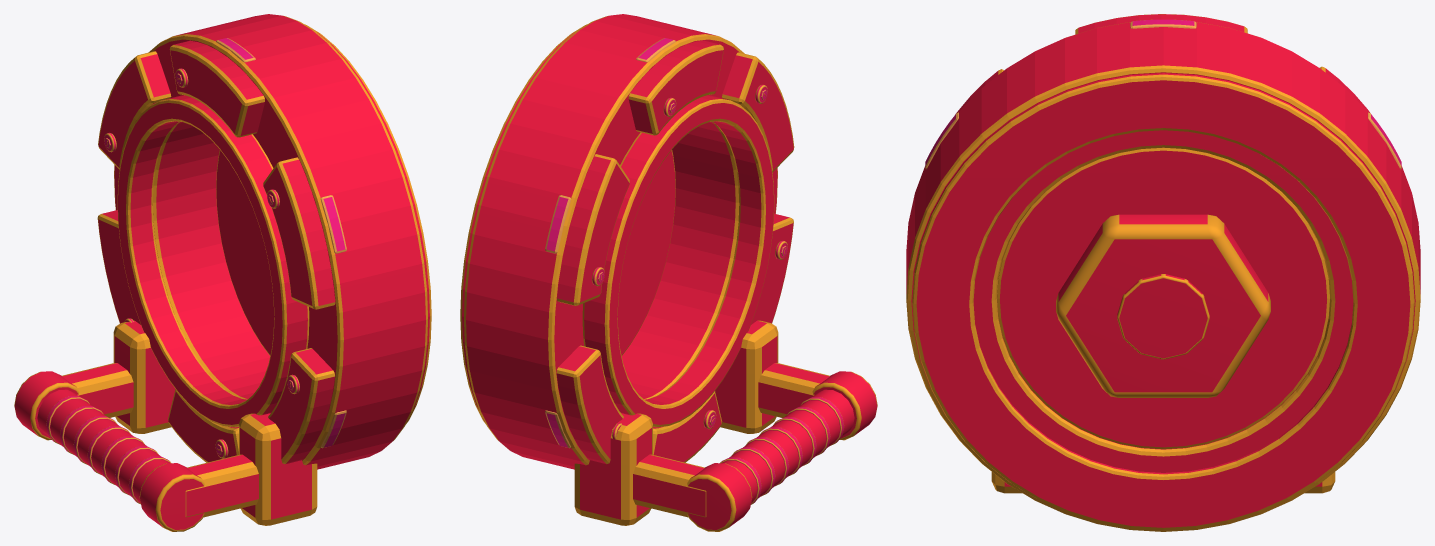
The model's file is SM_ShieldHub.fbx.
3 views of the same model, side by side, from view 1: azimuth 30°, elevation 25°; view 2: azimuth 150°, elevation 25°; view 3: azimuth 270°, elevation 25° (orthographic). The views are drawn at different scales.
Parts seen in each view (by area): view 1: SM_ShieldHub; view 2: SM_ShieldHub; view 3: SM_ShieldHub.
Part boxes in pixels (bbox=[...]): SM_ShieldHub: bbox=[14, 14, 431, 531]; SM_ShieldHub: bbox=[460, 14, 877, 531]; SM_ShieldHub: bbox=[906, 14, 1420, 531].
Size of the model in its own units: 29.8 by 19.86 by 30.09.
